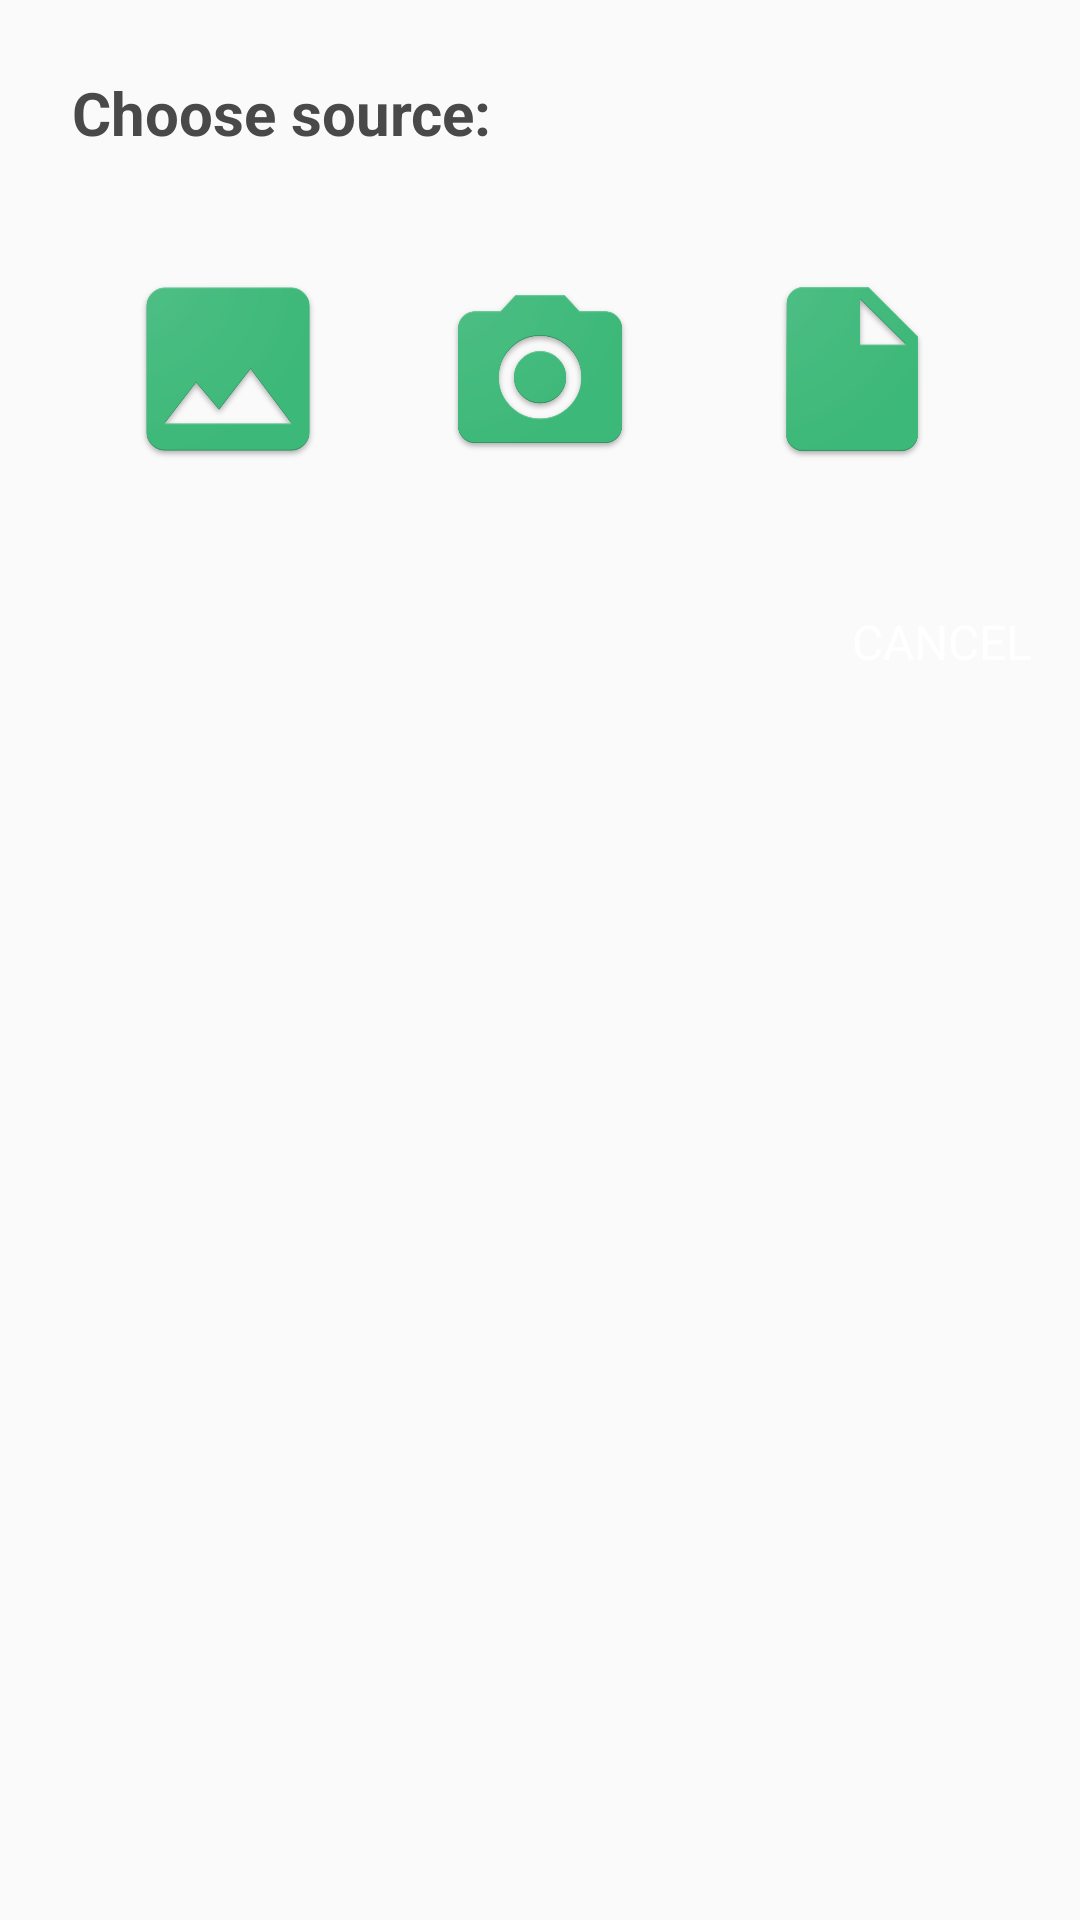

Where to tap for icons on this 1080 x 1920 app screen, as (x=x, y=y):
camera: (x=540, y=371)
file: (x=852, y=371)
